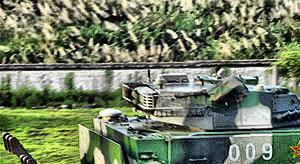tanks: (81, 76, 300, 164)
